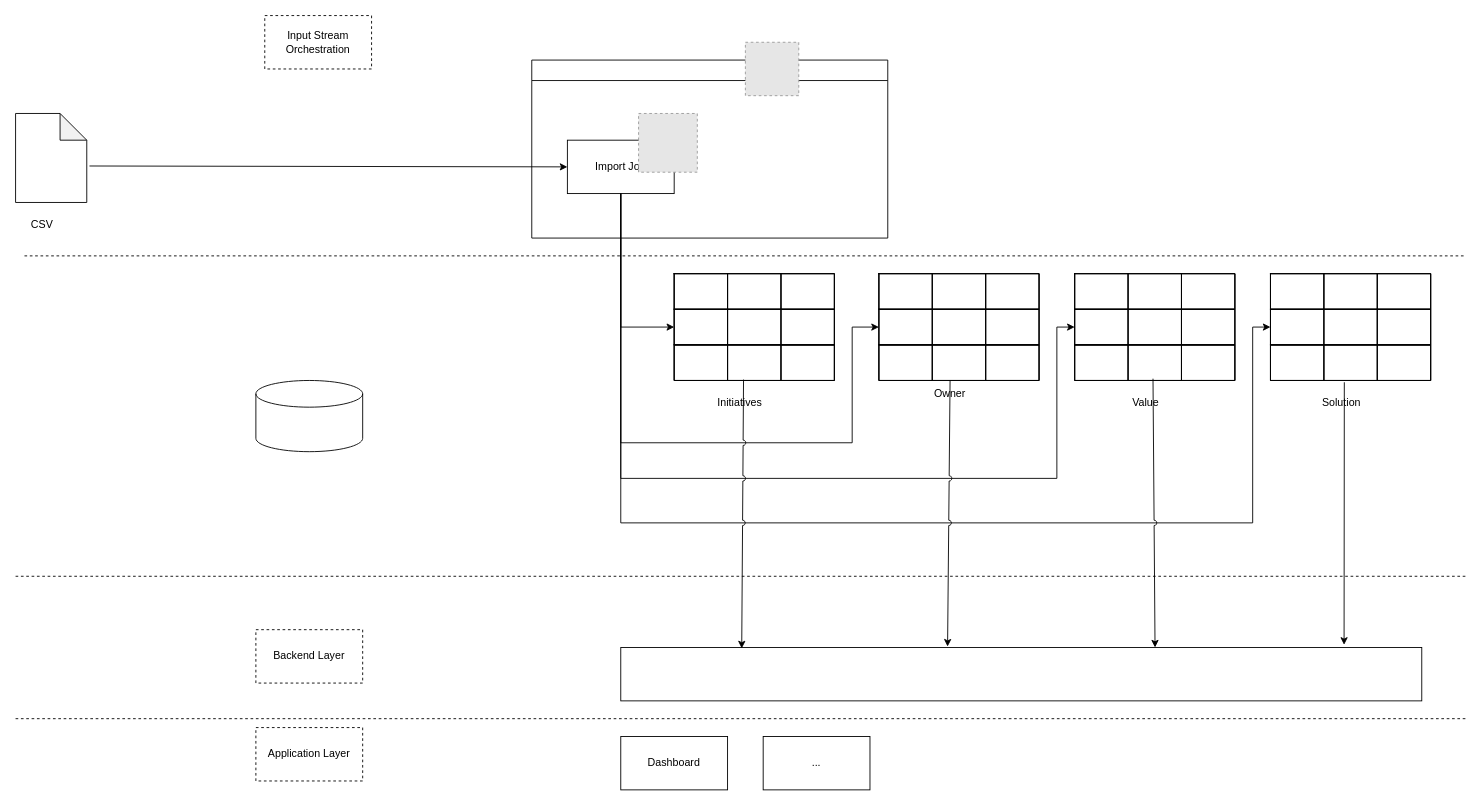
The diagram is 1483 pixels wide and 805 high, and some of its shapes have lost their labels. Grey dashed boxes stand in for pictures. Each missing label, with the box of its shape:
API: (620, 647, 1422, 701)
Data Layer: (255, 380, 363, 452)
Import DAG: (531, 59, 888, 238)
